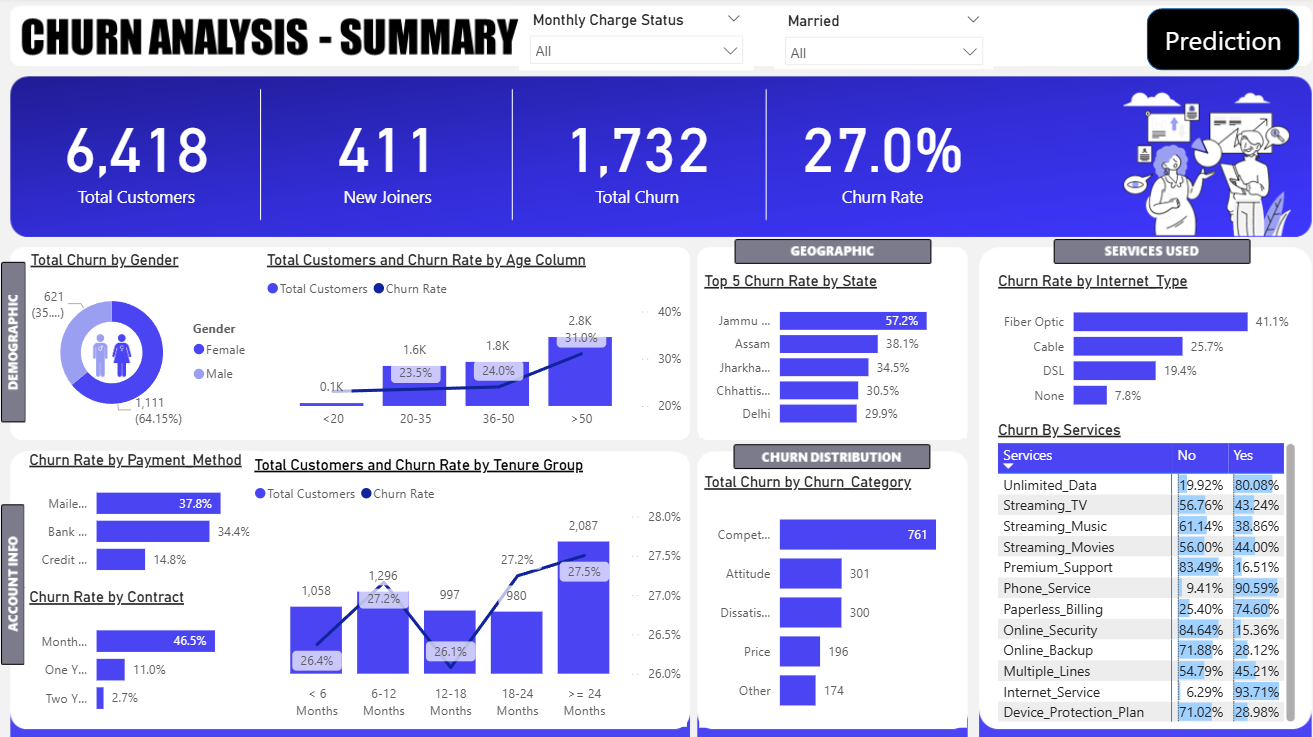

Layout of this report page (visuals, bound fields, positions):
{"tool":"powerbi","page":{"name":"Summary","canvas":[1280,720],"ordinal":0},"visuals":[{"type":"card","fields":{"Values":["tbl_Measures.Total Customers"]},"box":[27.3,87.3,211.8,127.3],"z":0},{"type":"card","fields":{"Values":["tbl_Measures.Churn Status"]},"box":[507.3,87.3,220.9,127.3],"z":1000},{"type":"card","fields":{"Values":["tbl_Measures.New Joiners"]},"box":[263.6,87.3,223.6,127.3],"z":2000},{"type":"card","fields":{"Values":["tbl_Measures.Churn Rate"]},"box":[748.2,87.3,211.8,127.3],"z":3000},{"type":"lineStackedColumnComboChart","fields":{"Category":["Mapping_Age.Age Column"],"Y":["tbl_Measures.Total Customers"],"Y2":["tbl_Measures.Churn Rate"]},"box":[254.6,245.4,410.8,180],"z":5000},{"type":"donutChart","fields":{"Category":["prod_Customer.Gender"],"Y":["tbl_Measures.Total Churn"]},"box":[26.9,245.4,227.7,180],"z":5500},{"type":"clusteredBarChart","fields":{"Category":["prod_Customer.Payment_Method"],"Y":["tbl_Measures.Churn Rate"]},"box":[25.4,438.5,227.7,132.3],"z":6000},{"type":"image","box":[60,318.2,100,53.6],"z":6500},{"type":"clusteredBarChart","fields":{"Category":["prod_Customer.Contract"],"Y":["tbl_Measures.Churn Rate"]},"box":[25.4,570.8,227.7,133.8],"z":7000},{"type":"lineStackedColumnComboChart","fields":{"Category":["Mapping_Tenure.Tenure Group"],"Y":["tbl_Measures.Total Customers"],"Y2":["tbl_Measures.Churn Rate"]},"box":[243.1,443.1,422.3,261.5],"z":8000},{"type":"clusteredBarChart","title":"Top 5 Churn Rate by State","fields":{"Category":["prod_Customer.State"],"Y":["tbl_Measures.Churn Rate"]},"box":[676.9,265.4,258.5,160],"z":9000},{"type":"clusteredBarChart","fields":{"Category":["prod_Customer.Churn_Category"],"Y":["tbl_Measures.Total Churn"]},"box":[676.9,459.2,258.5,245.4],"z":10000},{"type":"clusteredBarChart","fields":{"Category":["prod_Customer.Internet_Type"],"Y":["tbl_Measures.Churn Rate"]},"box":[960,265.6,296.7,143.3],"z":11000},{"type":"pivotTable","title":"Churn By Services","fields":{"Columns":["prod_Services.Status"],"Rows":["prod_Services.Services"],"Values":["Sum(prod_Services.Churn_status)"]},"box":[960,408.9,296.7,295.6],"z":12000},{"type":"slicer","fields":{"Values":["prod_Customer.Monthly Charge Status"]},"box":[502.5,8.8,226.2,62.5],"z":13000},{"type":"slicer","fields":{"Values":["prod_Customer.Married"]},"box":[748.8,10,211.2,60],"z":14000},{"type":"shape","box":[1108.8,11.2,147.5,60],"z":14001}]}

Visuals, with their boxes in screenshot pixels (x1, y1, x2, y2), scaled from the page's 1280x720 canvas onto the 1313x737 screenshot:
card - tbl_Measures.Total Customers: 28 89 245 220
card - tbl_Measures.Churn Status: 520 89 747 220
card - tbl_Measures.New Joiners: 270 89 500 220
card - tbl_Measures.Churn Rate: 767 89 985 220
lineStackedColumnComboChart - Mapping_Age.Age Column x tbl_Measures.Total Customers: 261 251 683 435
donutChart - prod_Customer.Gender x tbl_Measures.Total Churn: 28 251 261 435
clusteredBarChart - prod_Customer.Payment_Method x tbl_Measures.Churn Rate: 26 449 260 584
image: 62 326 164 381
clusteredBarChart - prod_Customer.Contract x tbl_Measures.Churn Rate: 26 584 260 721
lineStackedColumnComboChart - Mapping_Tenure.Tenure Group x tbl_Measures.Total Customers: 249 454 683 721
"Top 5 Churn Rate by State" clusteredBarChart: 694 272 960 435
clusteredBarChart - prod_Customer.Churn_Category x tbl_Measures.Total Churn: 694 470 960 721
clusteredBarChart - prod_Customer.Internet_Type x tbl_Measures.Churn Rate: 985 272 1289 419
"Churn By Services" pivotTable: 985 419 1289 721
slicer - prod_Customer.Monthly Charge Status: 515 9 747 73
slicer - prod_Customer.Married: 768 10 985 72
shape: 1137 11 1289 73
